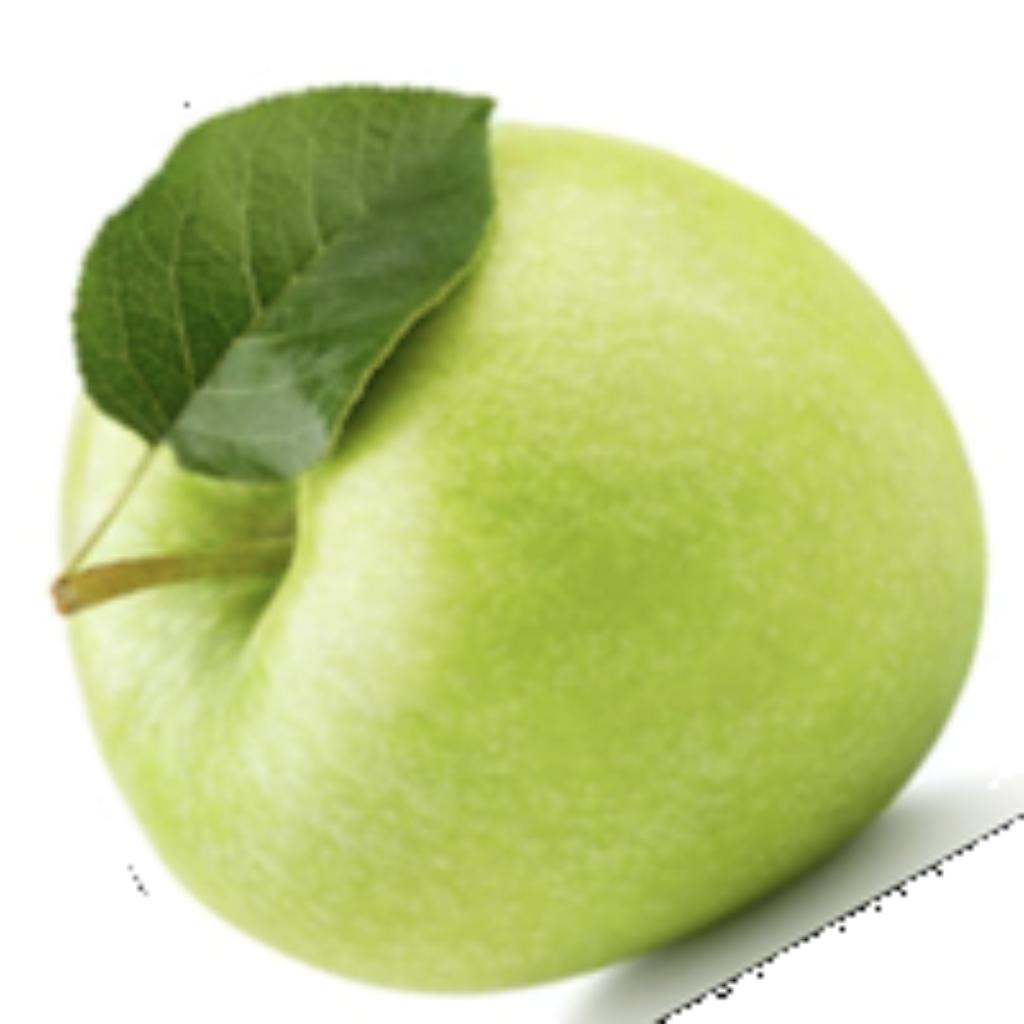apple: (41, 77, 1019, 1019)
